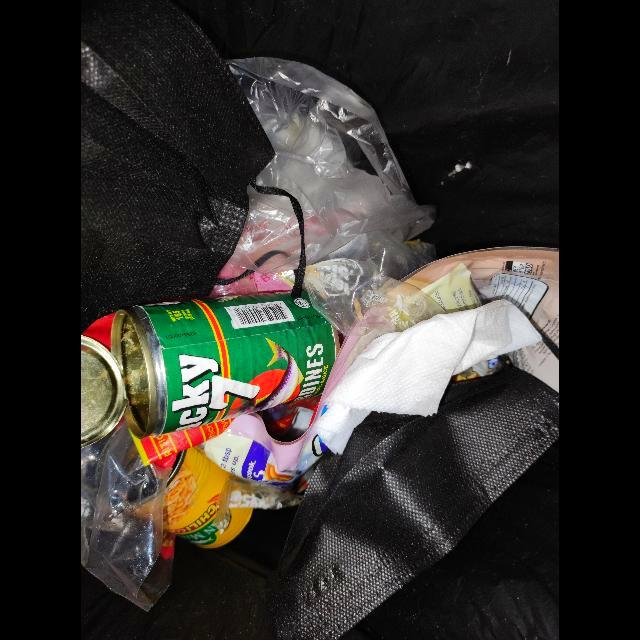aluminum: (81, 294, 344, 448), (164, 448, 254, 549)
food_wrapper: (297, 247, 560, 474)
paper: (315, 300, 544, 456)
plastic_bag: (214, 57, 436, 337)
